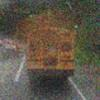buses: (26, 26, 77, 83)
